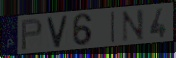4: (149, 7, 168, 39)
6: (72, 13, 94, 48)
I: (111, 10, 117, 45)
N: (121, 8, 145, 44)
P: (20, 17, 44, 52)
V: (46, 14, 70, 50)
